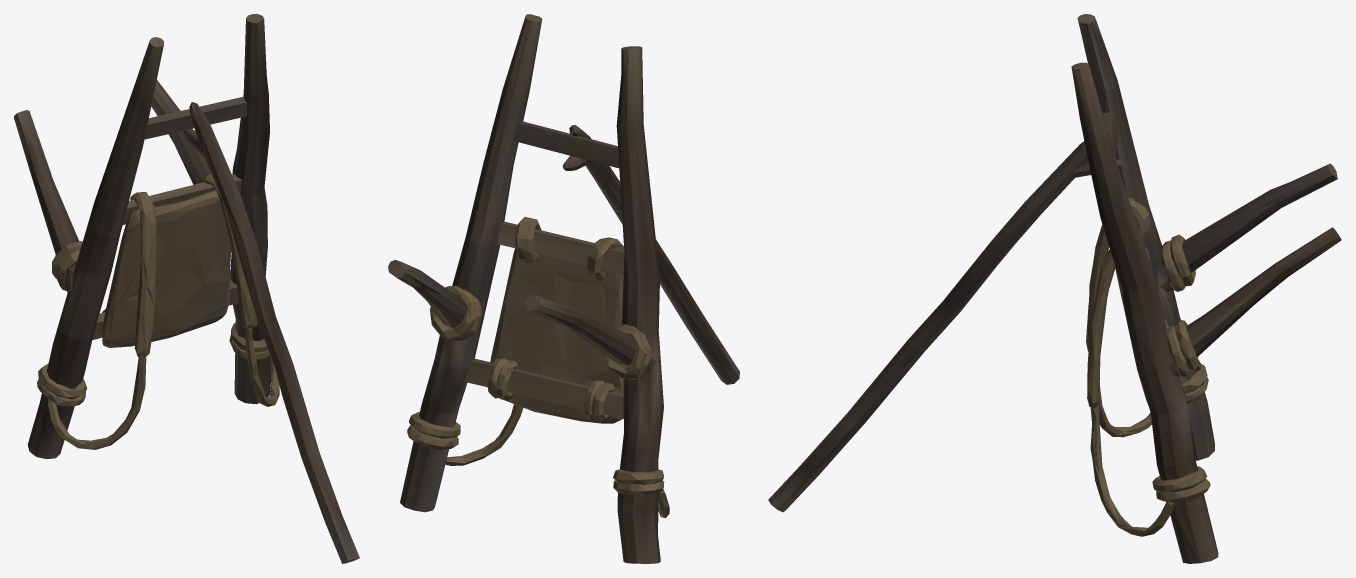
File: a_frame_carrier_bc43790f.glb
The picture shows the model from 3 angles, left to right: view 1: azimuth 30°, elevation 25°; view 2: azimuth 150°, elevation 25°; view 3: azimuth 270°, elevation 25°; orthographic projection. The views are drawn at different scales.
Parts seen in each view (by area): view 1: A_frame_Carrier01a_A_frame_Carrier01a_0; view 2: A_frame_Carrier01a_A_frame_Carrier01a_0; view 3: A_frame_Carrier01a_A_frame_Carrier01a_0.
Part boxes in pixels (<box>): A_frame_Carrier01a_A_frame_Carrier01a_0: <box>14,14,359,563</box>; A_frame_Carrier01a_A_frame_Carrier01a_0: <box>388,14,739,563</box>; A_frame_Carrier01a_A_frame_Carrier01a_0: <box>768,14,1341,563</box>.
Size of the model in its own units: 0.5776 by 1.01 by 1.11.
